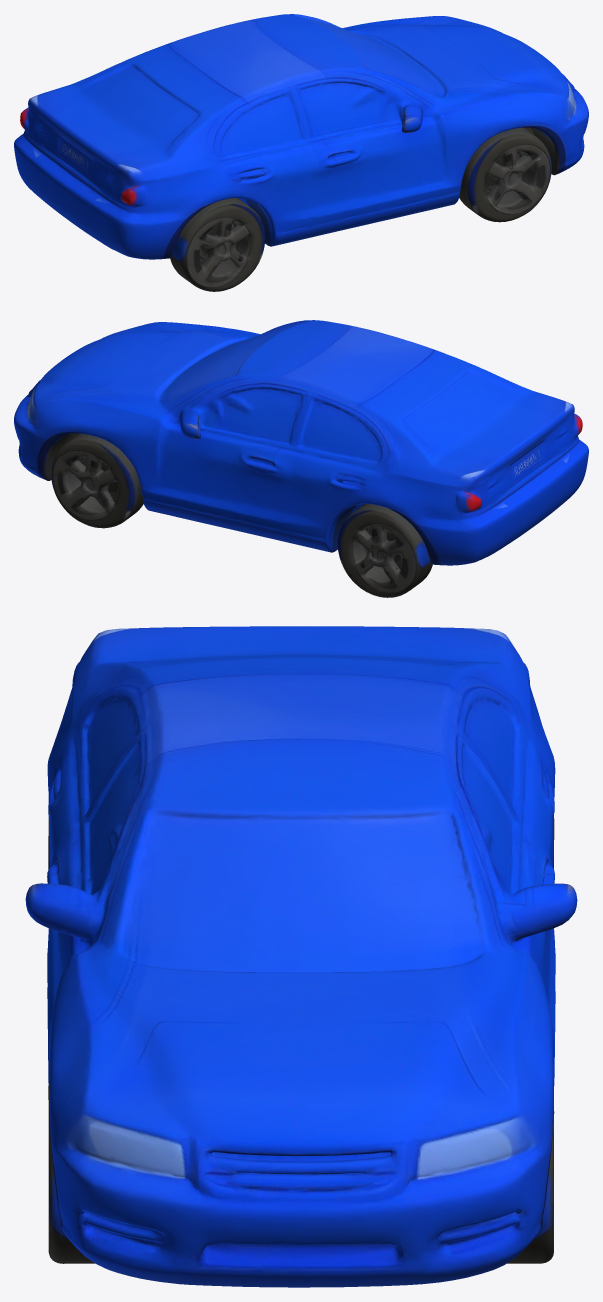
File: npc-sedan.glb
The picture shows the model from 3 angles, top to bottom: view 1: azimuth 30°, elevation 25°; view 2: azimuth 150°, elevation 25°; view 3: azimuth 270°, elevation 25°; orthographic projection. The views are drawn at different scales.
Parts seen in each view (by area): view 1: tripo_node_2ee4ed11-86a1-4f93-9a59-459dd4ea5d08; view 2: tripo_node_2ee4ed11-86a1-4f93-9a59-459dd4ea5d08; view 3: tripo_node_2ee4ed11-86a1-4f93-9a59-459dd4ea5d08.
Boxes of the visible parts, x1=… form: tripo_node_2ee4ed11-86a1-4f93-9a59-459dd4ea5d08: x1=14, y1=14, x2=588, y2=291; tripo_node_2ee4ed11-86a1-4f93-9a59-459dd4ea5d08: x1=14, y1=320, x2=588, y2=597; tripo_node_2ee4ed11-86a1-4f93-9a59-459dd4ea5d08: x1=25, y1=626, x2=577, y2=1287.
Bounding box in the file's own units: 1 × 0.3344 × 0.4792.
Materials: 1 (1 with a texture image).
